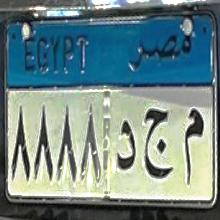8: (80, 101, 103, 187), (57, 106, 80, 182), (32, 106, 54, 181), (10, 106, 31, 178)
daal: (115, 116, 139, 174)
jeem: (143, 104, 173, 186)
meem: (181, 101, 206, 186)
